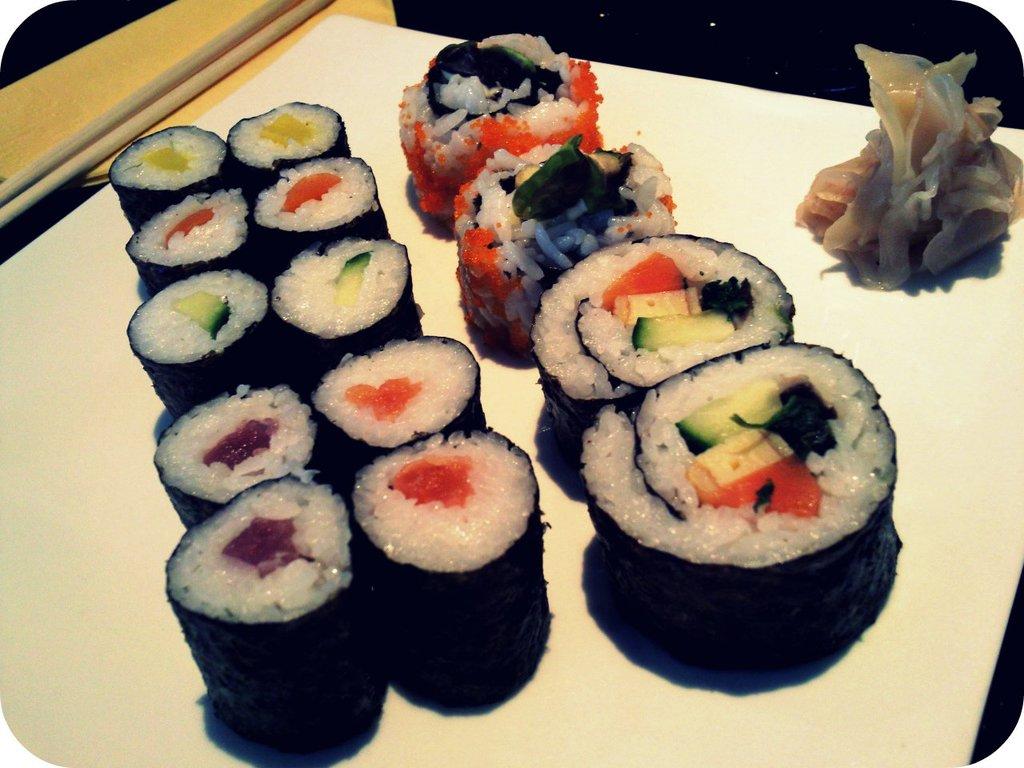sushi: (106, 98, 557, 750), (585, 354, 899, 658), (530, 232, 799, 462), (459, 138, 683, 350), (402, 30, 602, 222)
